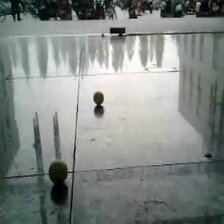w: (47, 160, 67, 184), (93, 91, 105, 105)
